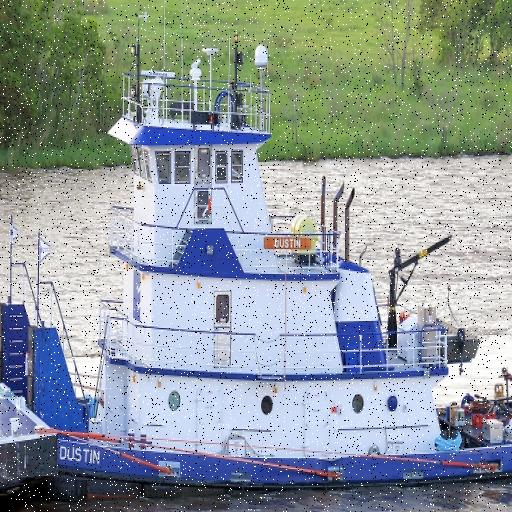tugboat: (1, 39, 512, 512)
